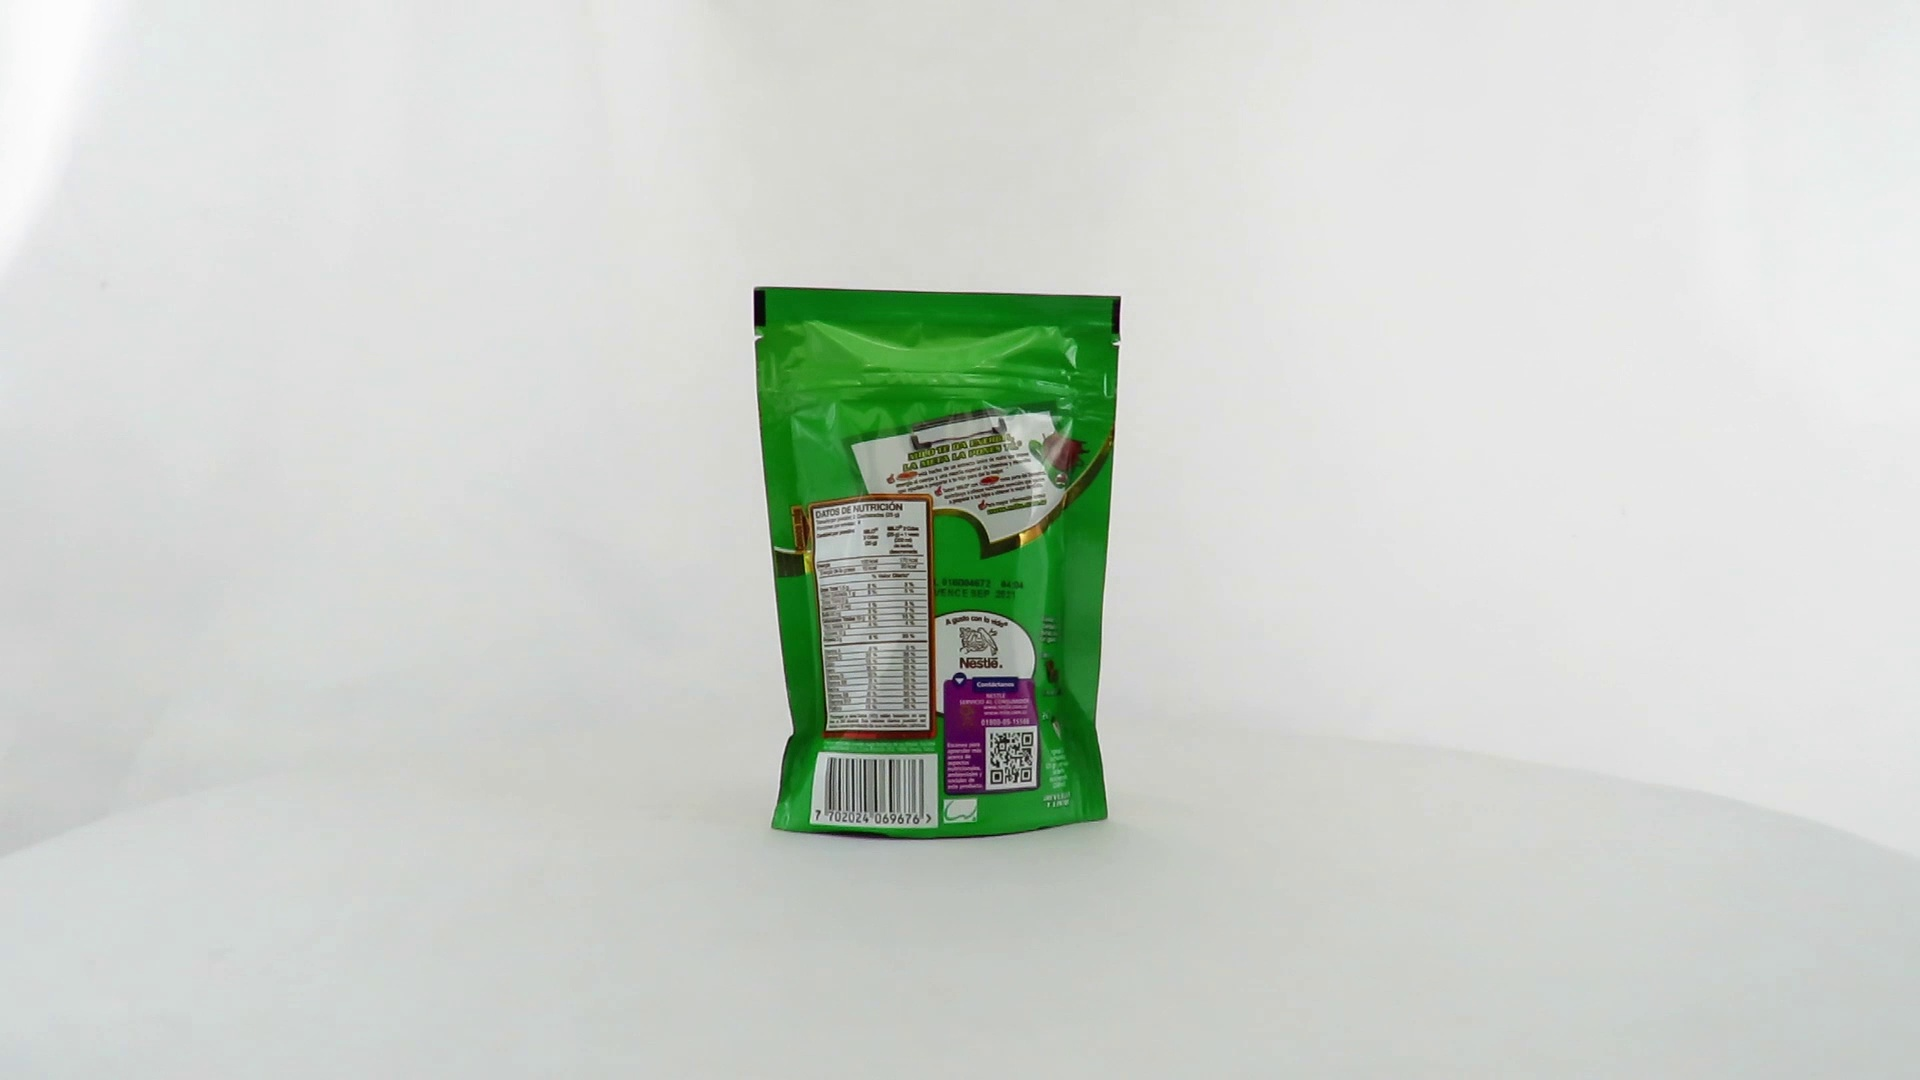COL0170203DYP10000: (748, 281, 1127, 847)
